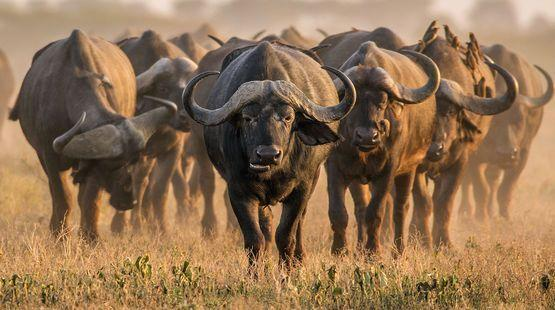Buffalo: (23, 31, 555, 259)
